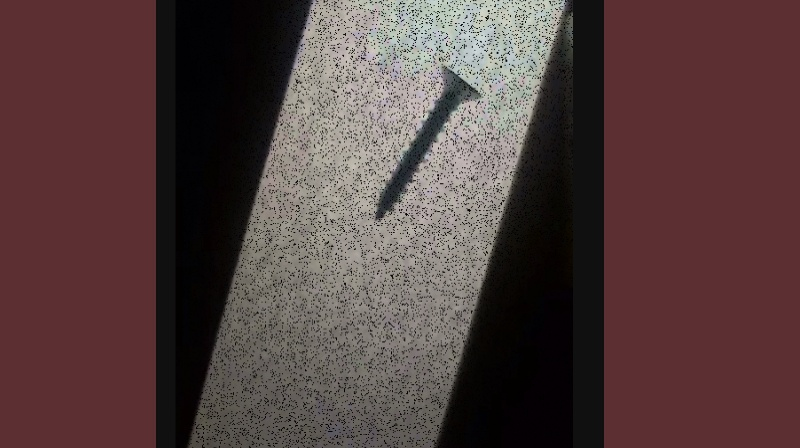S001: (370, 61, 483, 222)
